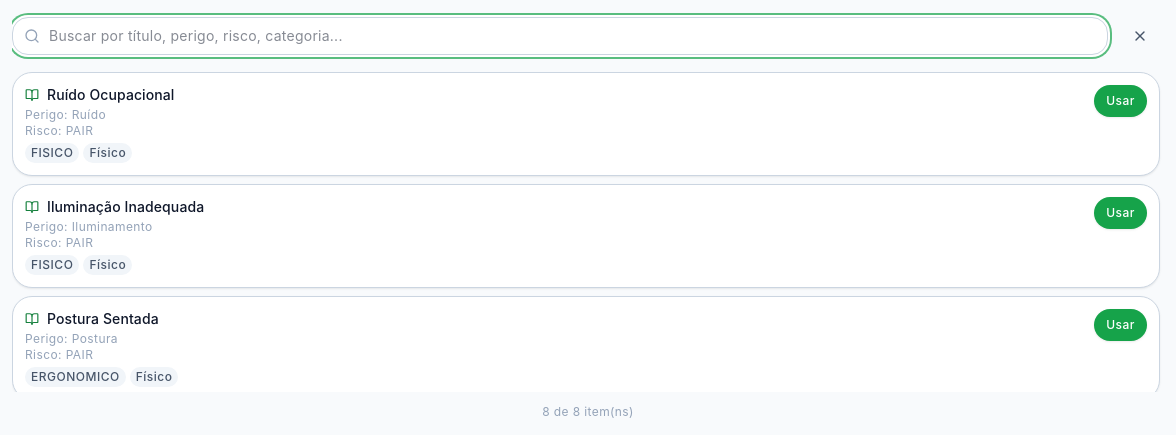
Scenario: BibliotecaRiscoSelector › filtra por categoria
The image size is (1176, 435).
Type "quimico" into the field with placeholder "Buscar por título, perigo, risco, categoria...".
click(560, 36); type("quimico")  # box x1=12 y1=17 x2=1108 y2=55
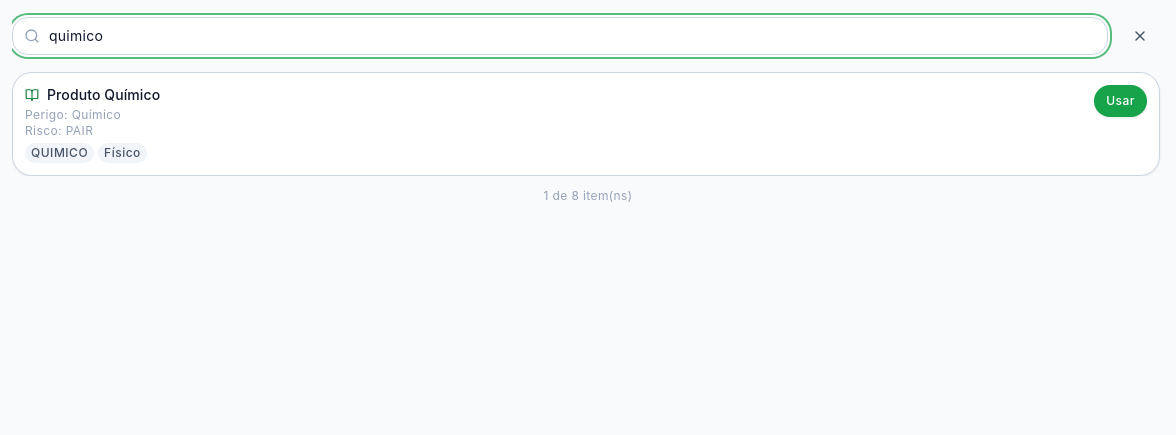
Now the text "Produto Químico" is shown, box x1=47 y1=85 x2=160 y2=105
Now the button "Ruído Ocupacional" is gone
